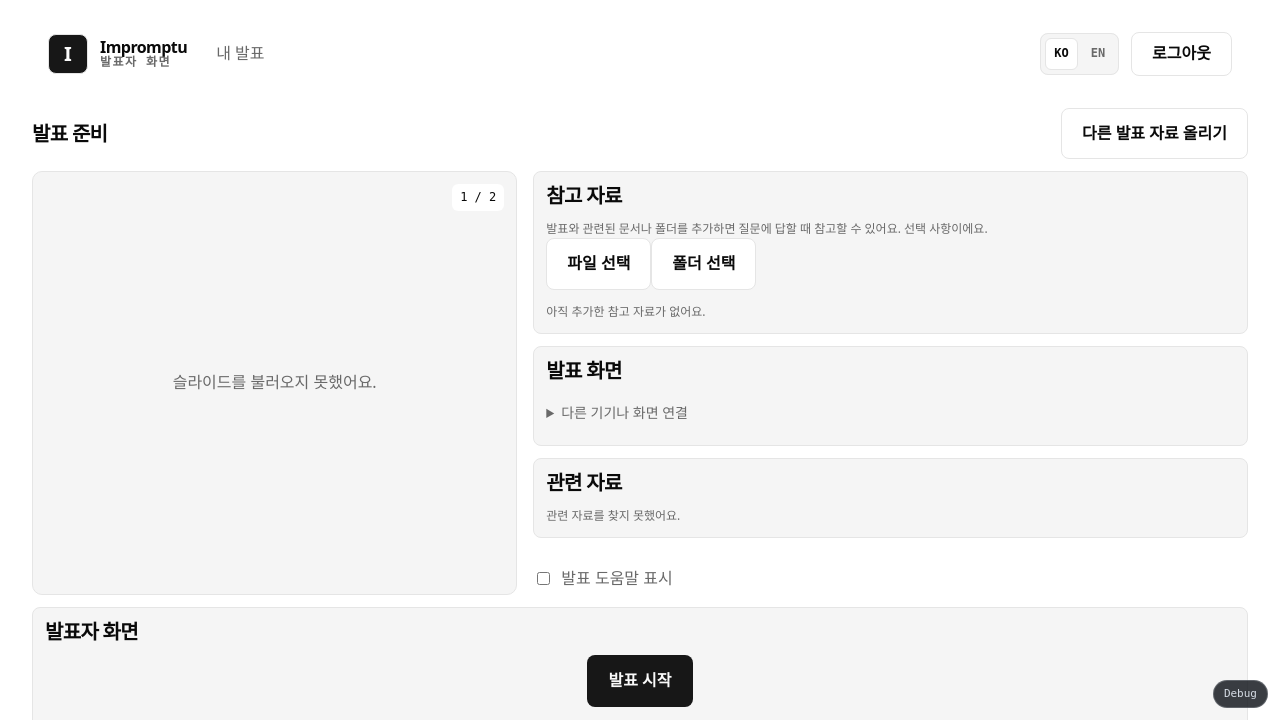
Scenario: Console route boundary › switches locale from the compact language control
Expected: the button with aria-label "한국어" is shown, [1045,38,1078,70]
Expected: the heading "발표 준비" is shown, [32,122,107,145]
Click the button with aria-label "English": click(1098, 54) [1082,38,1114,70]
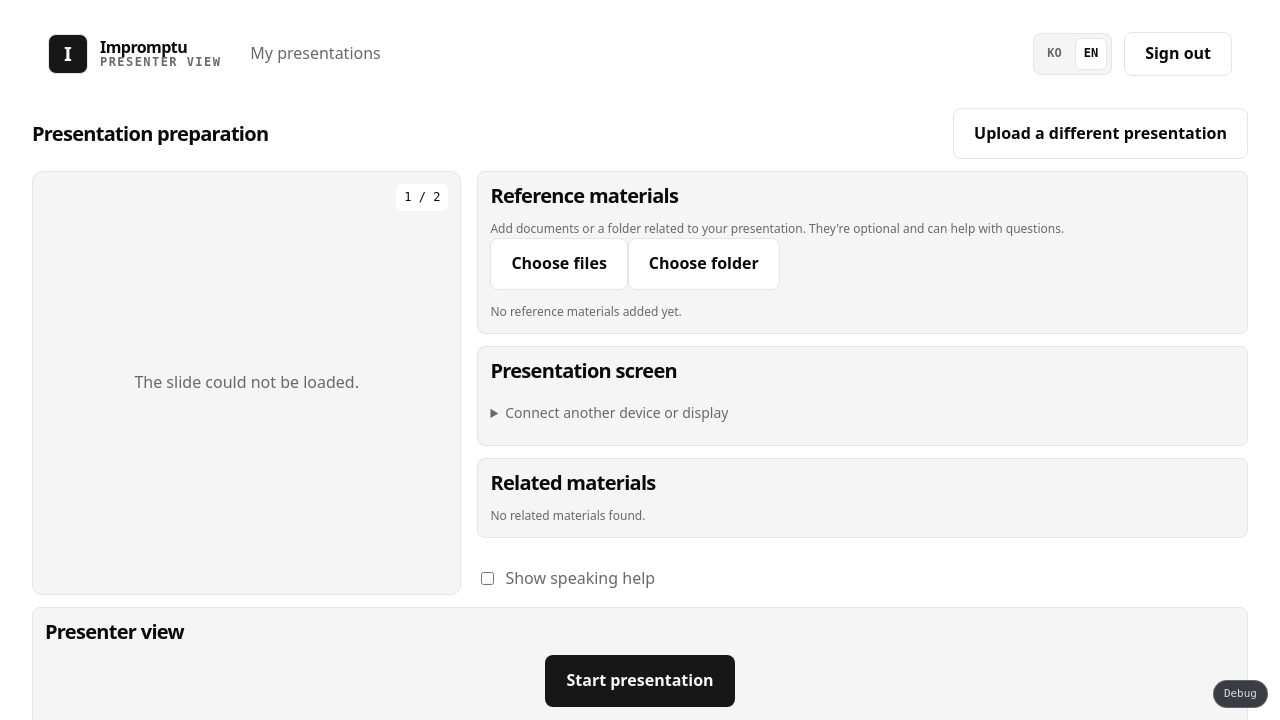
Now the heading "Presentation preparation" is shown, box [32,122,268,145]
